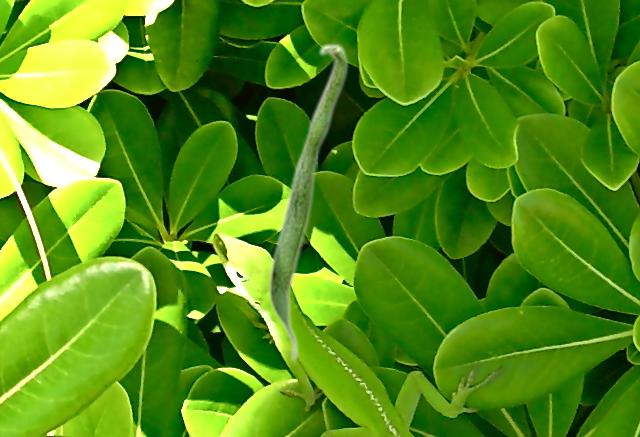french_bean: (267, 42, 348, 363)
